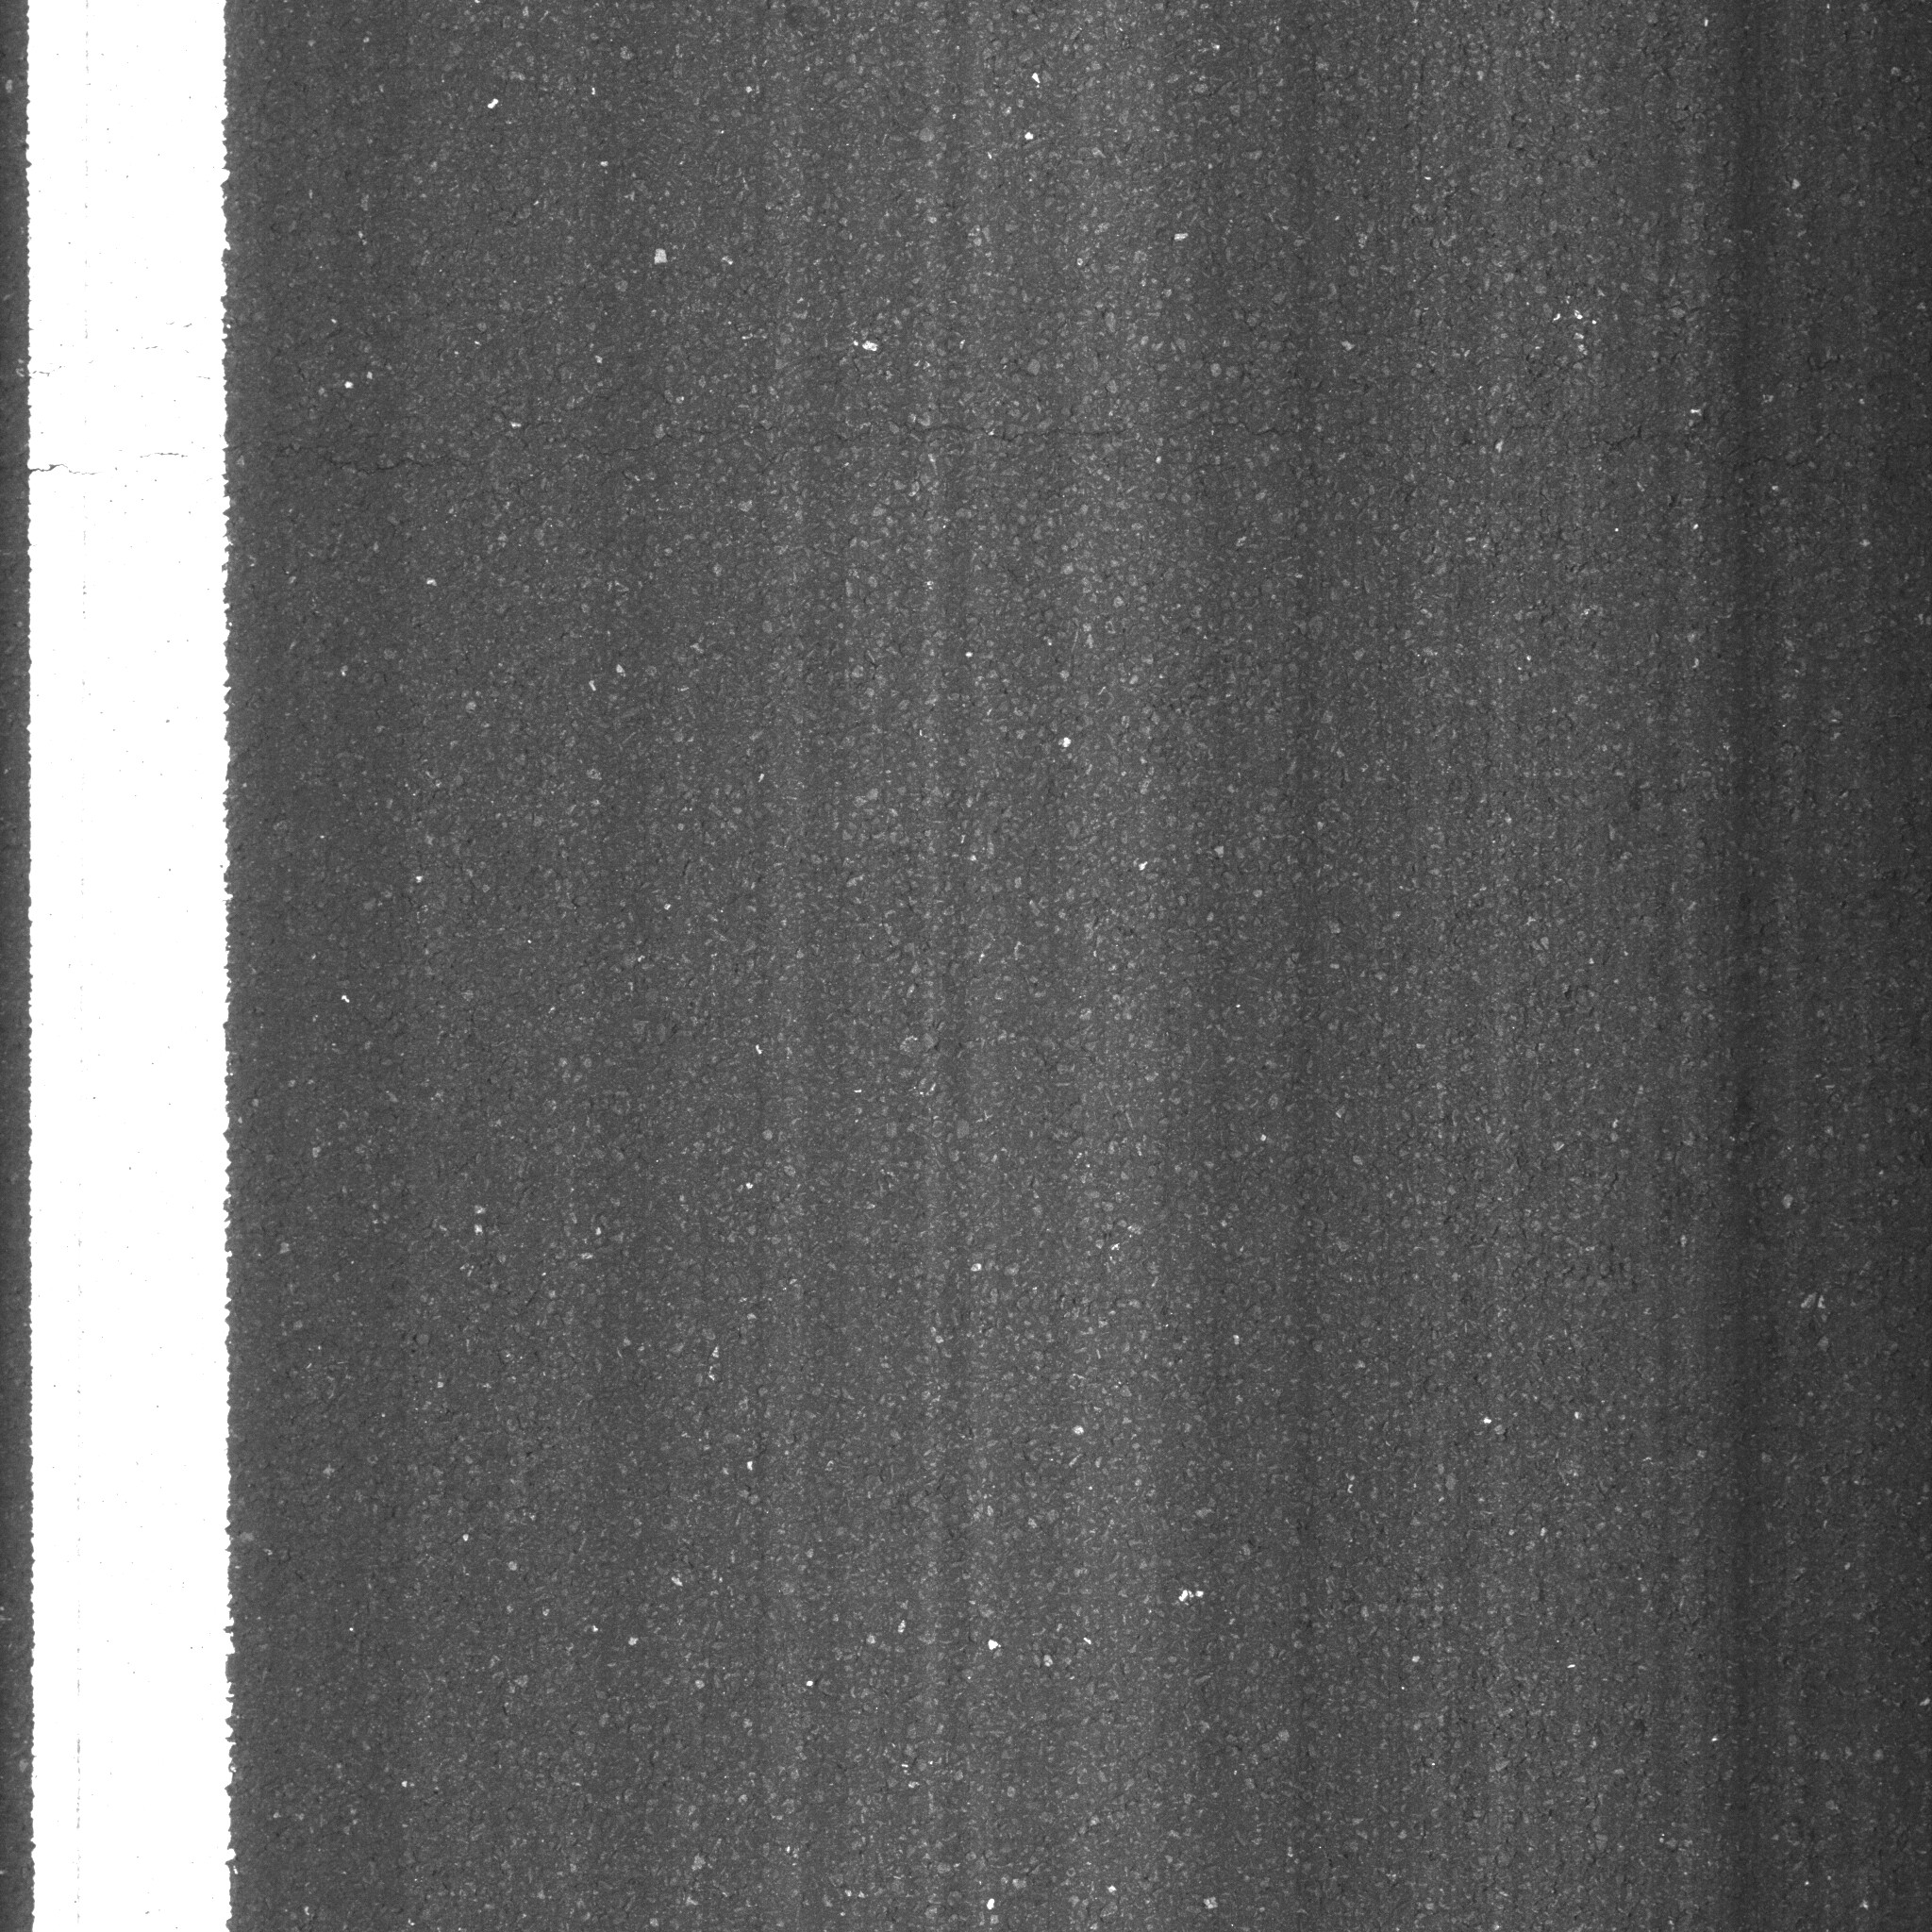transeverse: (897, 380, 1859, 499)
